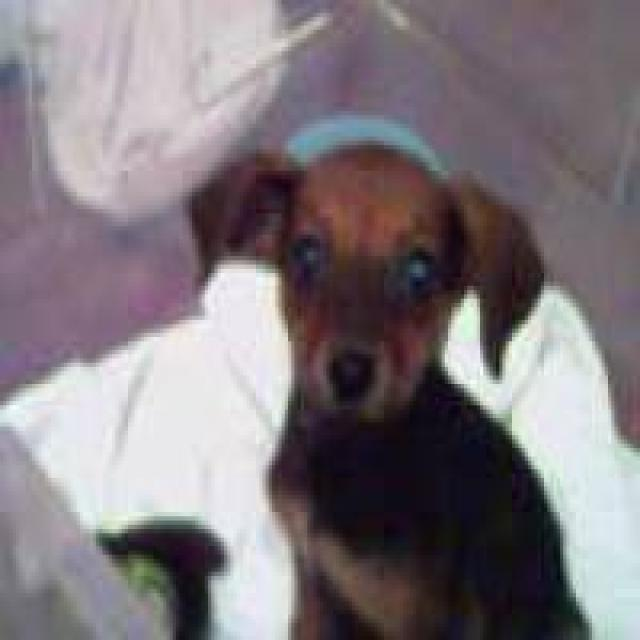dog-miniature_pinscher: (182, 137, 598, 631)
